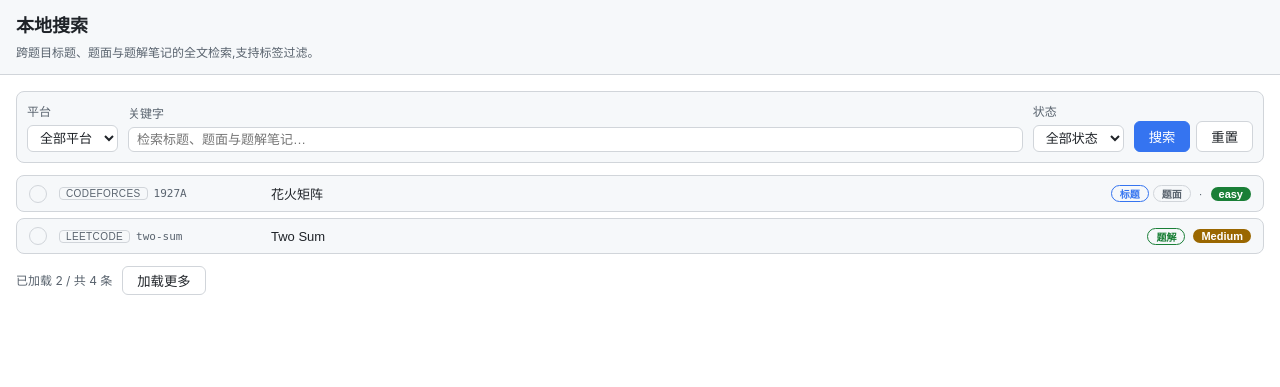
it: search page › appends next page when clicking load more
expect the number of buttons with class "results__row" is 2: met, box [16,175,1264,212]; [16,218,1264,254]
Click the button "加载更多". click: (164,281)
box: [122,266,206,295]
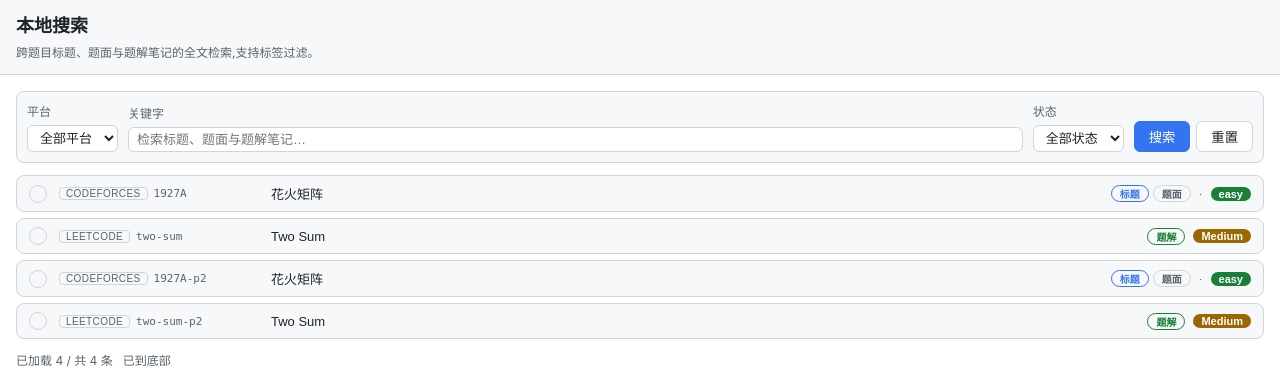
expect the number of buttons with class "results__row" is 4: met, box [16,175,1264,212]; [16,218,1264,254]; [16,260,1264,297]; [16,303,1264,339]
expect the text "1927A-p2" is shown: met, box [154,272,207,285]
expect the text "已加载 4 / 共 4 条" is shown: met, box [16,351,113,370]
